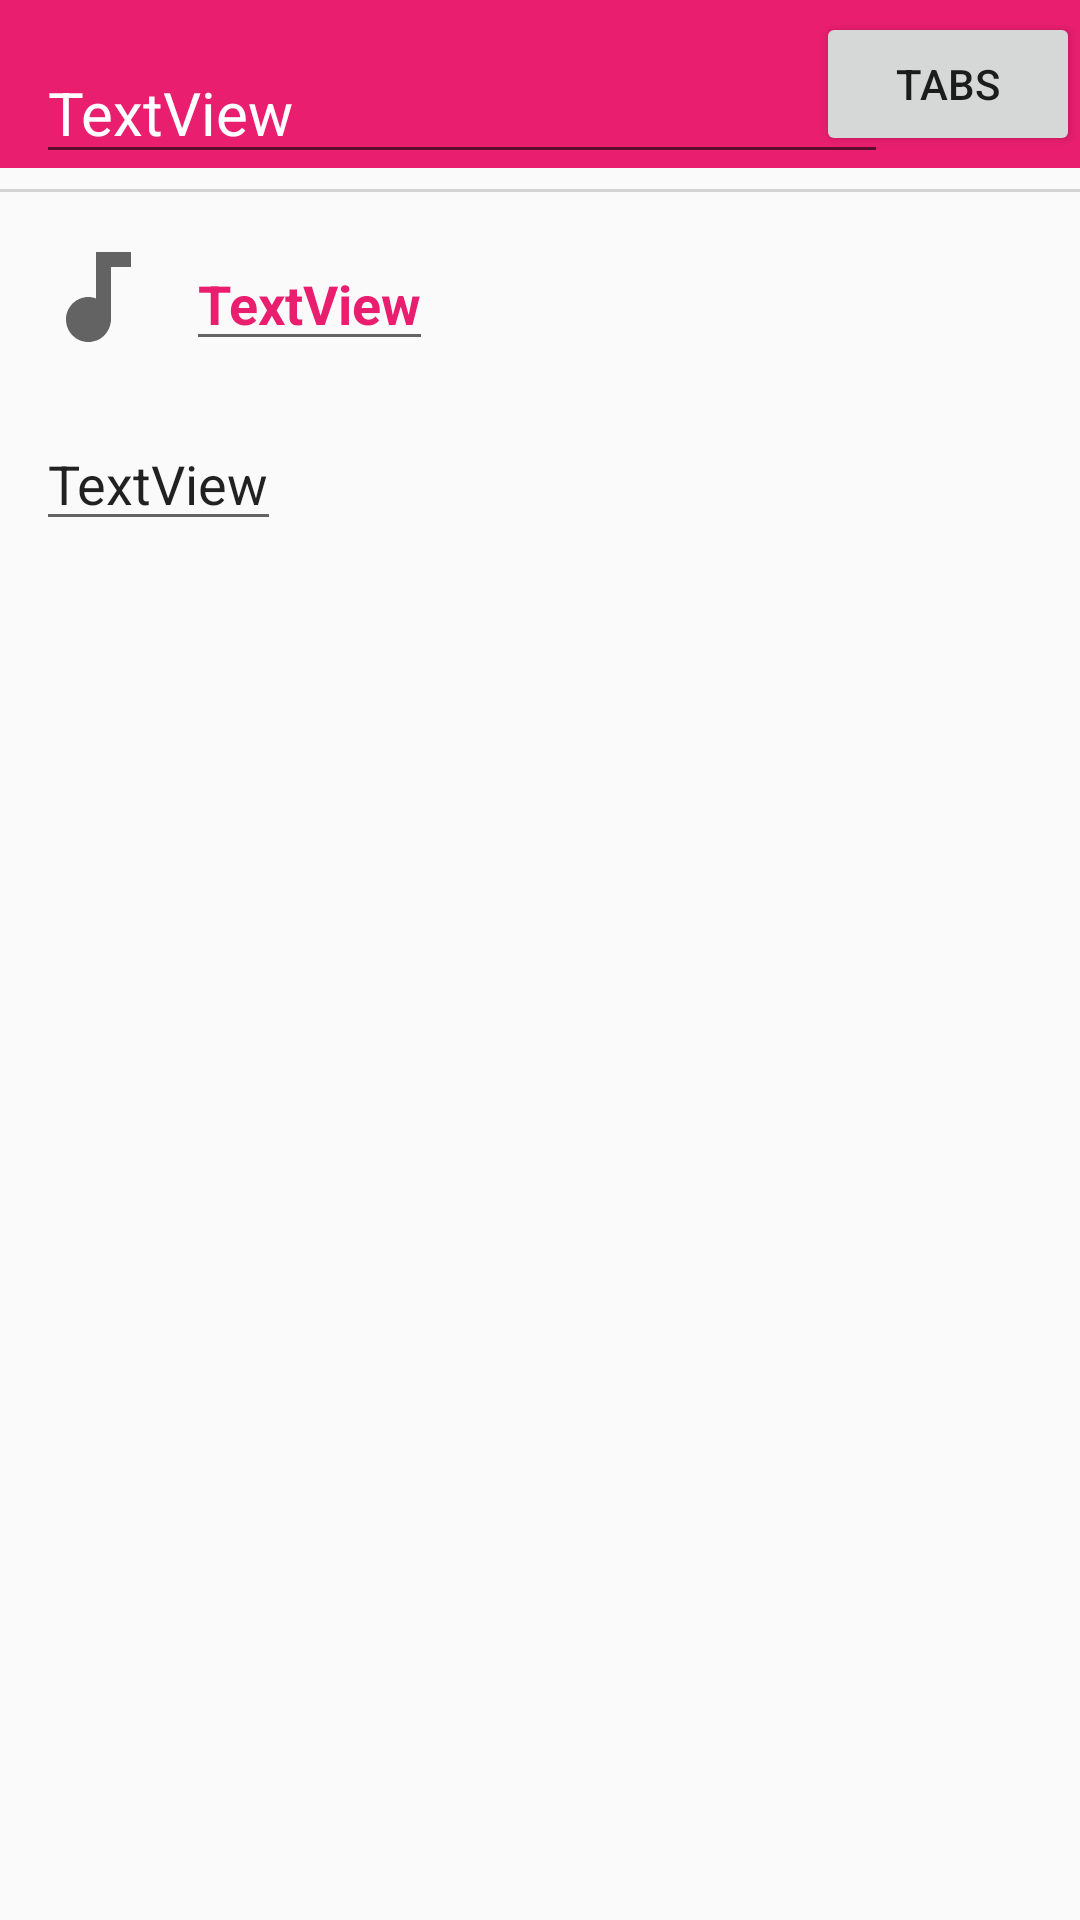

Screen size 1080 x 1920. Icon name, then its center in pixels as point (x, y):
audiotrack: point (98, 297)
